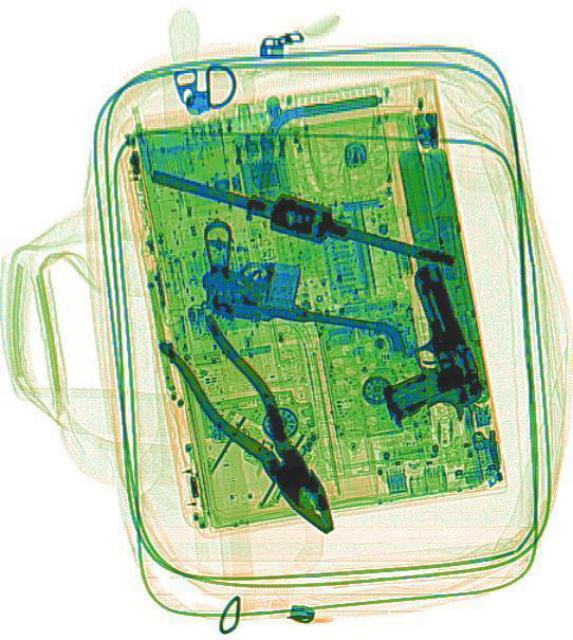Gun: (349, 258, 489, 440), (194, 219, 389, 335)
Pliers: (156, 306, 359, 550)
